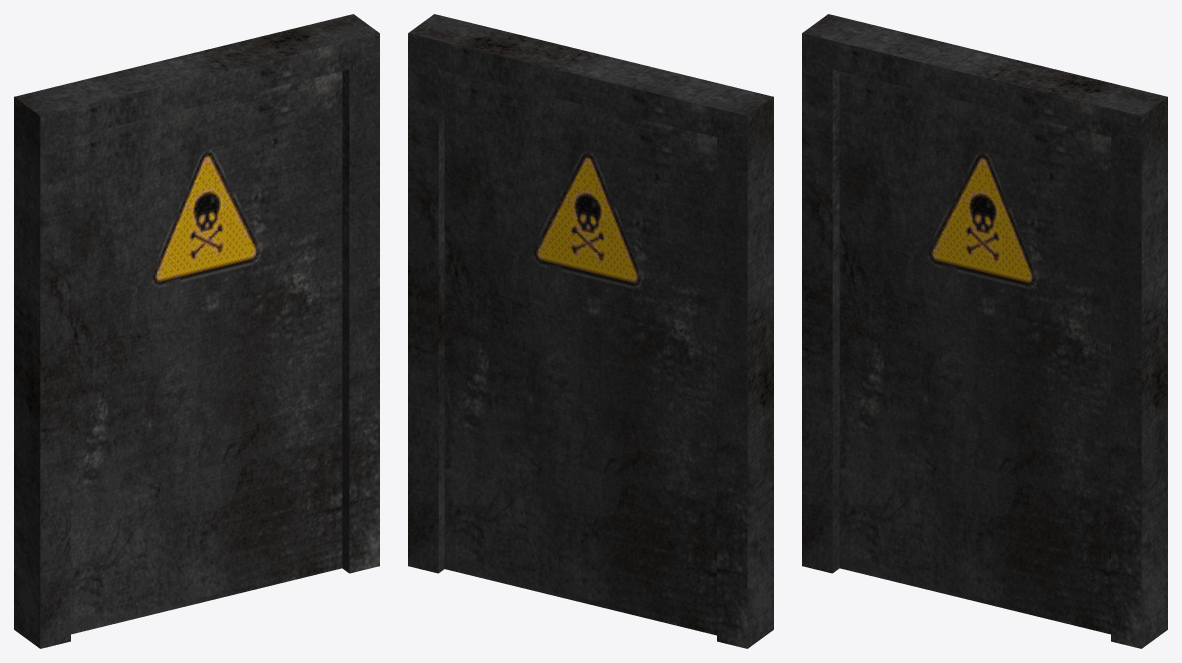
The model's file is Door_electric (4).fbx.
3 renders of one model, left to right at view 1: azimuth 30°, elevation 25°; view 2: azimuth 150°, elevation 25°; view 3: azimuth 330°, elevation 25°, orthographic.
Visible parts, largest first — view 1: Cube.003, Door1; view 2: Cube.003, Door1; view 3: Cube.003, Door1.
Part boxes in pixels (<box>): Cube.003: <box>71,71,342,634</box>; Door1: <box>14,14,379,648</box>; Cube.003: <box>444,71,716,635</box>; Door1: <box>408,14,773,648</box>; Cube.003: <box>839,71,1110,634</box>; Door1: <box>802,14,1167,648</box>.
Bounding box in the file's own units: 300 × 450 × 40.25.
